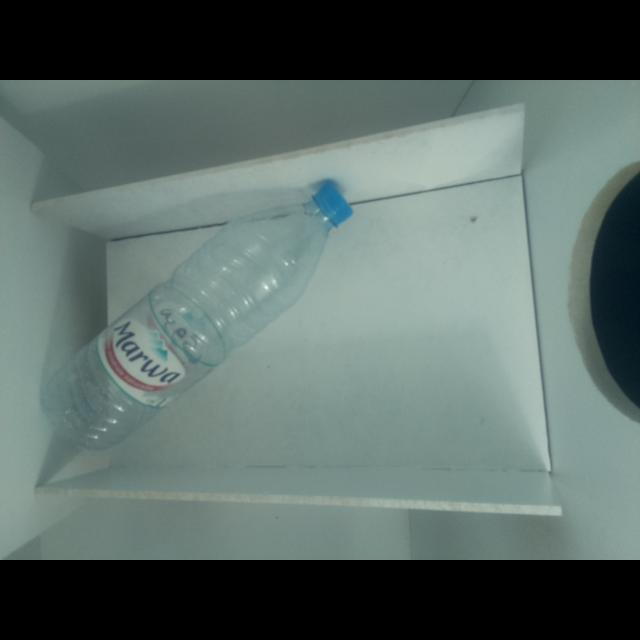trash: (33, 178, 361, 464)
